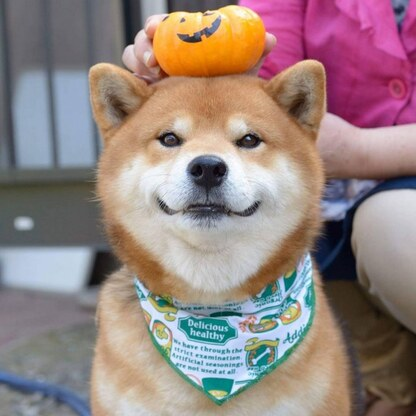shiba: (81, 55, 358, 416)
